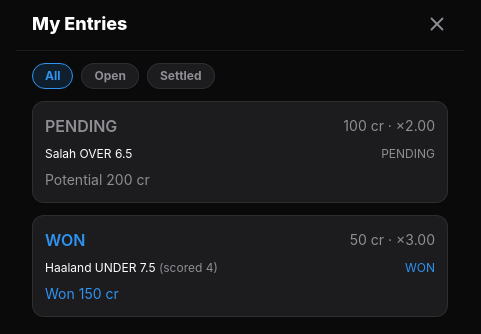
Test: MyEntriesSheet › loads slips and filters to settled
Expected: the text "Salah OVER 6.5" is shown, [45,146,132,162]
Click the button "Settled".
click(181, 76)  # box [147,63,215,89]
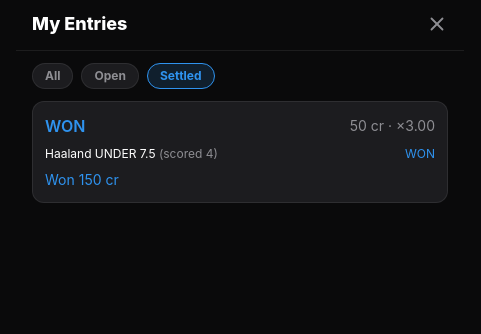
Expected: the text "Haaland UNDER 7.5" is shown, [45,146,218,162]
Expected: the text "Salah OVER 6.5" is gone
